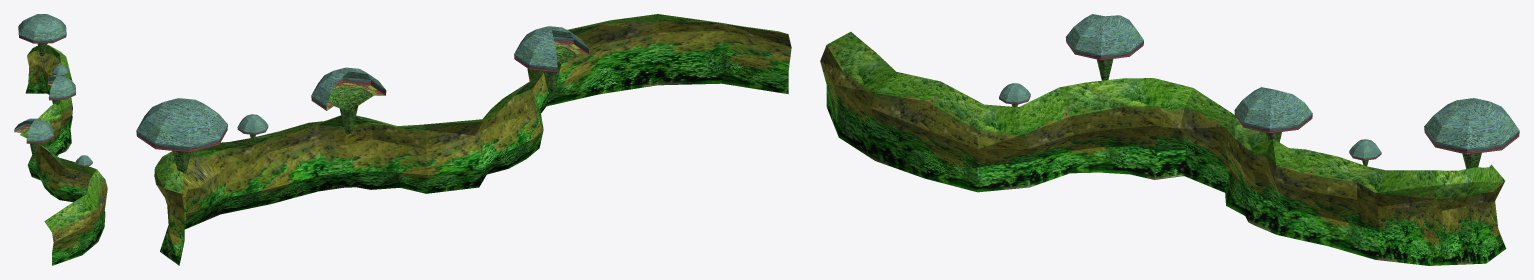
The model's file is Lost Jungle 13.obj.
3 views of the same model, side by side, from view 1: azimuth 30°, elevation 25°; view 2: azimuth 150°, elevation 25°; view 3: azimuth 270°, elevation 25° (orthographic). The views are drawn at different scales.
Parts seen in each view (by area): view 1: Object_2; view 2: Object_2; view 3: Object_2.
Part boxes in pixels (x1,y1,x2,y2): Object_2: (14, 14, 107, 265); Object_2: (136, 14, 791, 265); Object_2: (820, 14, 1519, 265).
Bounding box in the file's own units: 8239 × 3452 × 14327.
Materials: 5 (5 with a texture image).
